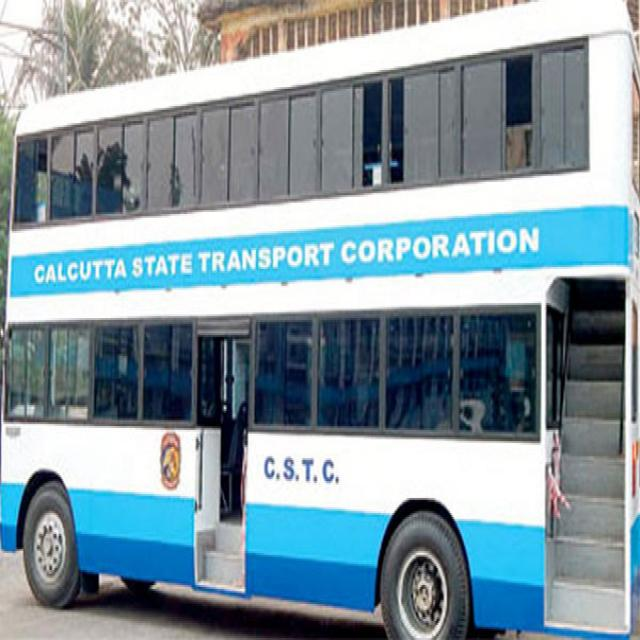BUS: (5, 57, 640, 636)
